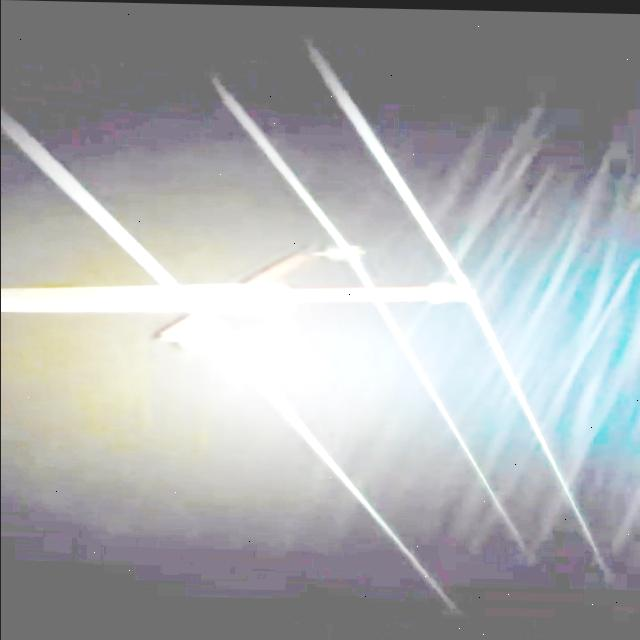poles: (3, 241, 477, 351)
wires: (322, 66, 595, 547), (190, 300, 410, 554), (375, 300, 522, 542), (1, 114, 187, 298), (217, 85, 372, 286)
